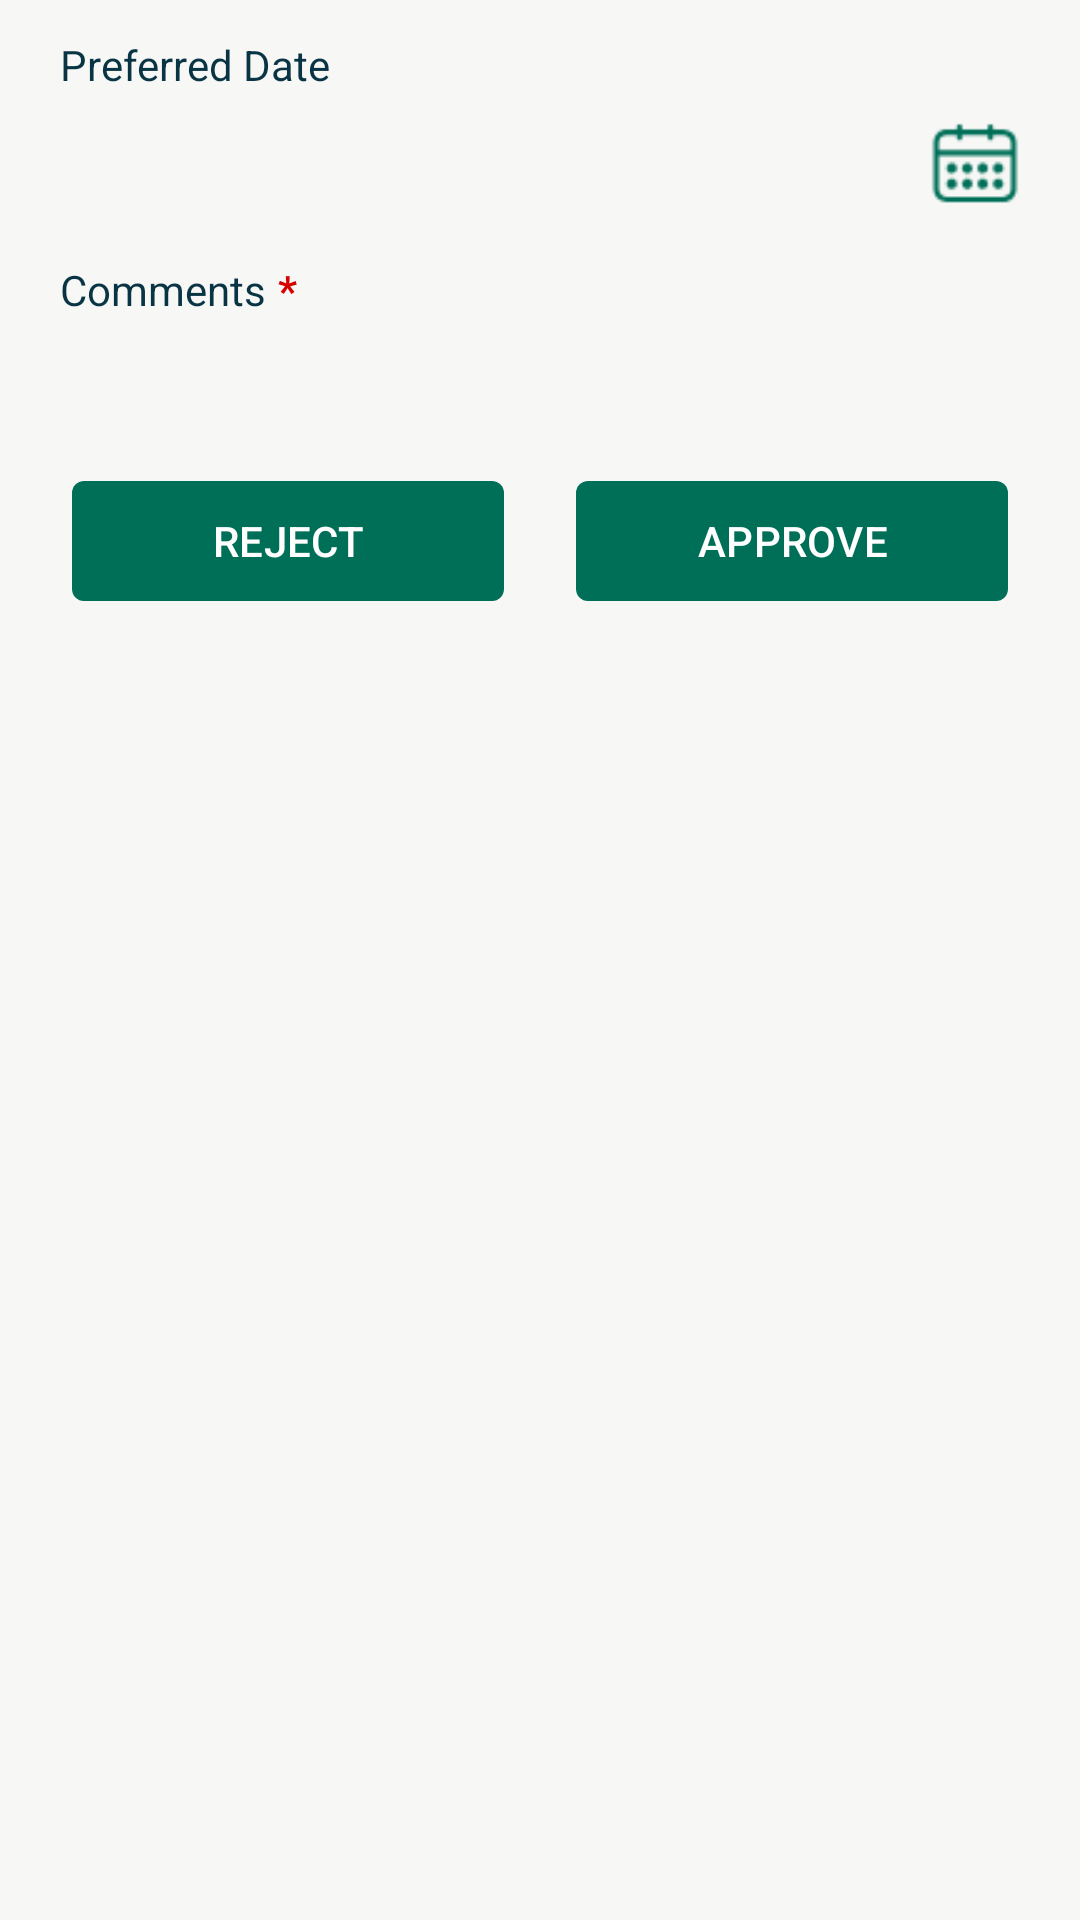

Where icons sit on this 1080 x 1920 app screen, as (x1, y1, x2, y2):
calender: (932, 124, 1018, 203)
